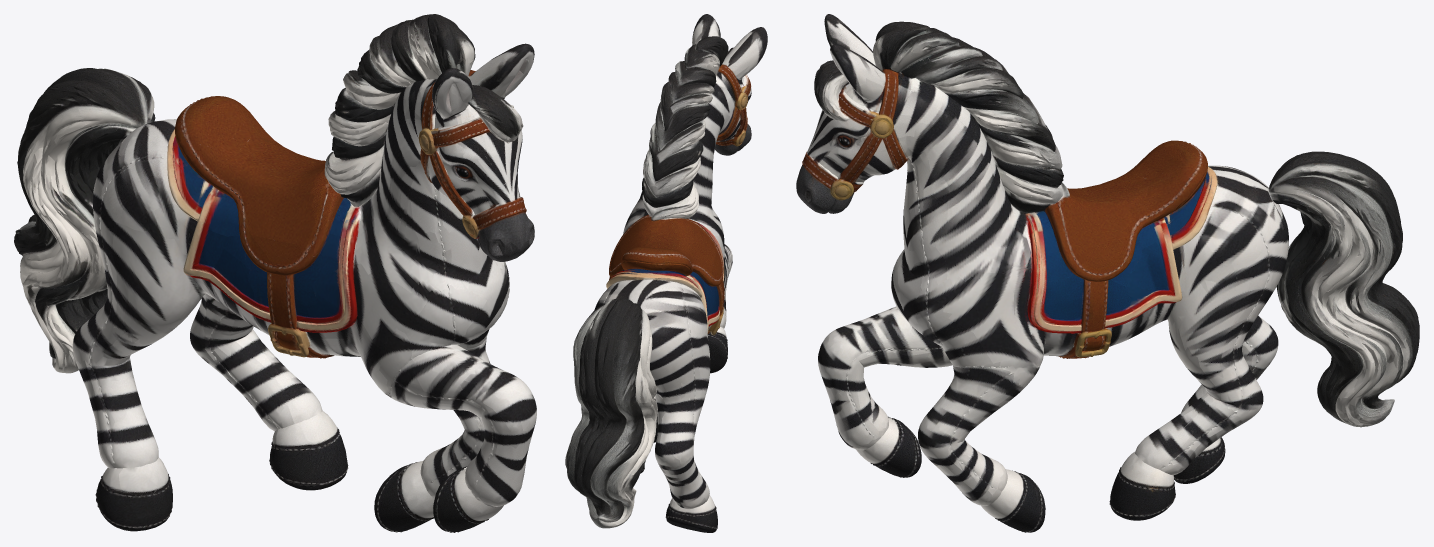
The model's file is zebra.glb.
The picture shows the model from 3 angles, left to right: view 1: azimuth 30°, elevation 25°; view 2: azimuth 150°, elevation 25°; view 3: azimuth 270°, elevation 25°; orthographic projection. The views are drawn at different scales.
Size of the model in its own units: 0.8321 by 1.73 by 1.9.
Materials: 1 (1 with a texture image).
